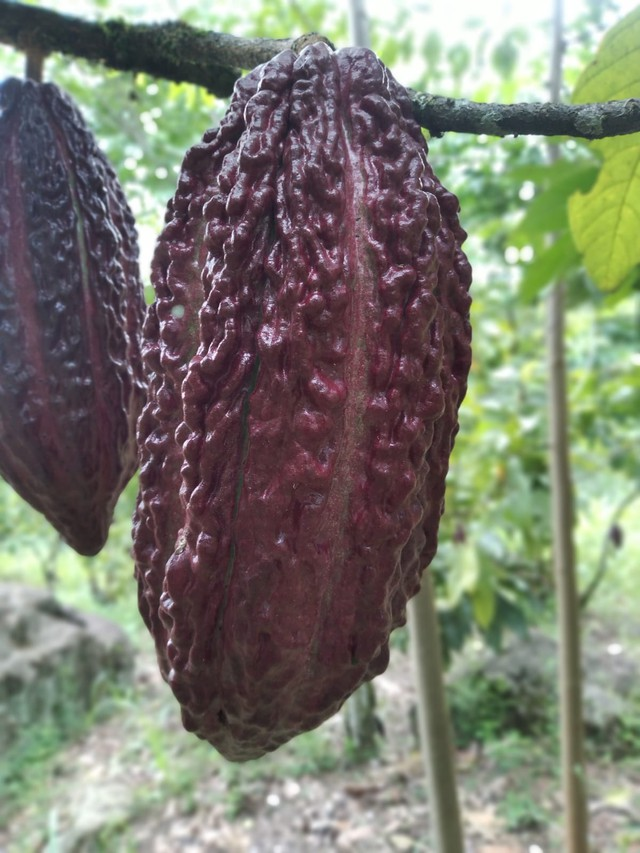Health: (119, 24, 487, 778), (3, 68, 146, 556)
